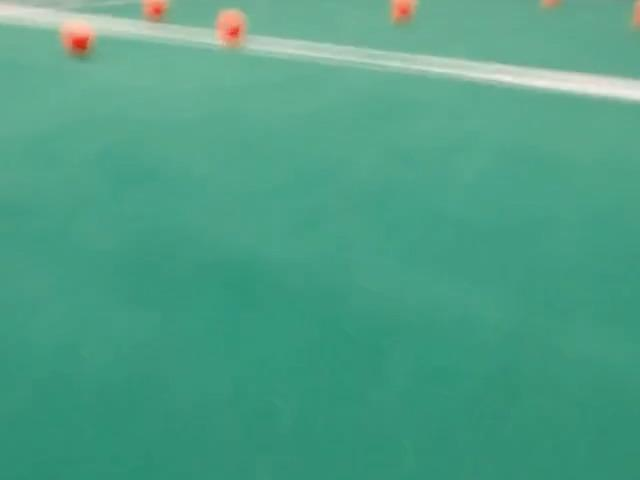Ball: (60, 20, 94, 56), (215, 9, 246, 46), (633, 0, 639, 27)
